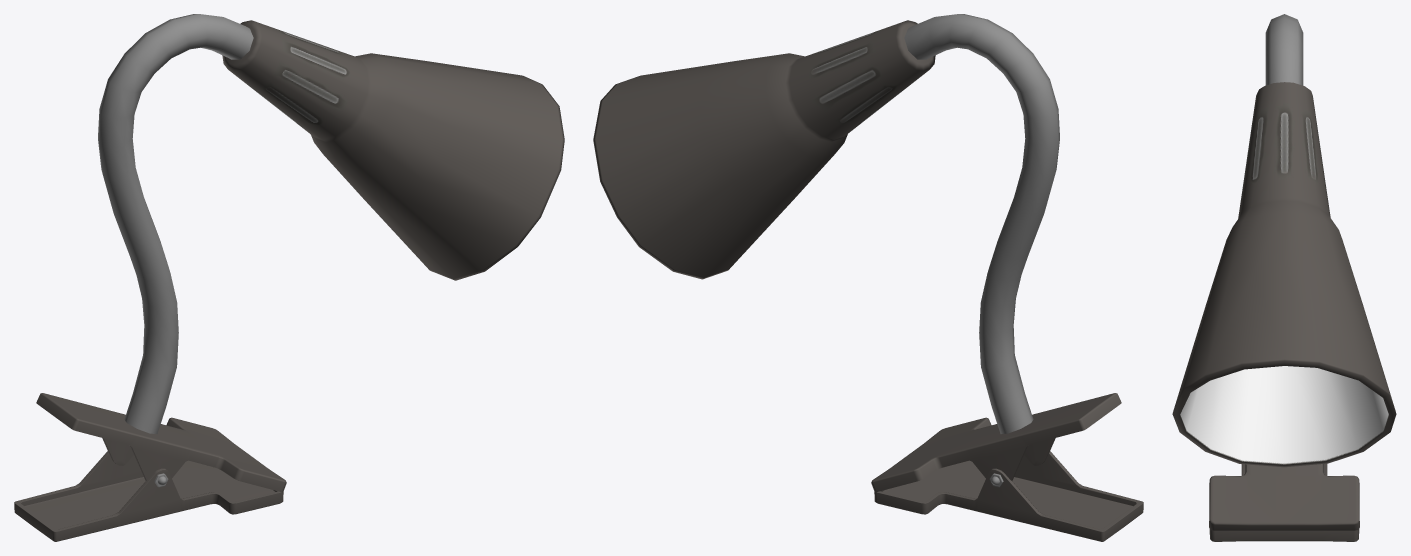
The model's file is lamp9.glb.
3 renders of one model, left to right at view 1: azimuth 30°, elevation 25°; view 2: azimuth 150°, elevation 25°; view 3: azimuth 270°, elevation 25°, orthographic. The views are drawn at different scales.
Parts seen in each view (by area): view 1: polySurface6; view 2: polySurface6; view 3: polySurface6.
Part boxes in pixels (x1,y1,x2,y2): polySurface6: (14, 14, 564, 541); polySurface6: (593, 14, 1143, 541); polySurface6: (1172, 14, 1396, 541).
Size of the model in its own units: 0.241 by 0.2147 by 0.0895.
Materials: 1 (1 with a texture image).
